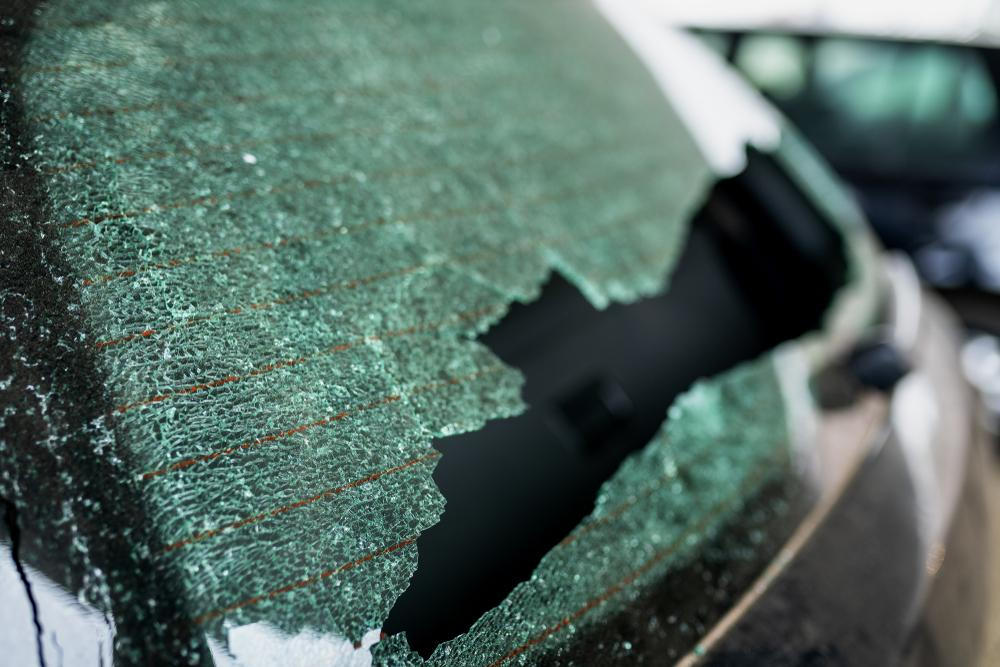glass shatter: (0, 0, 898, 667)
